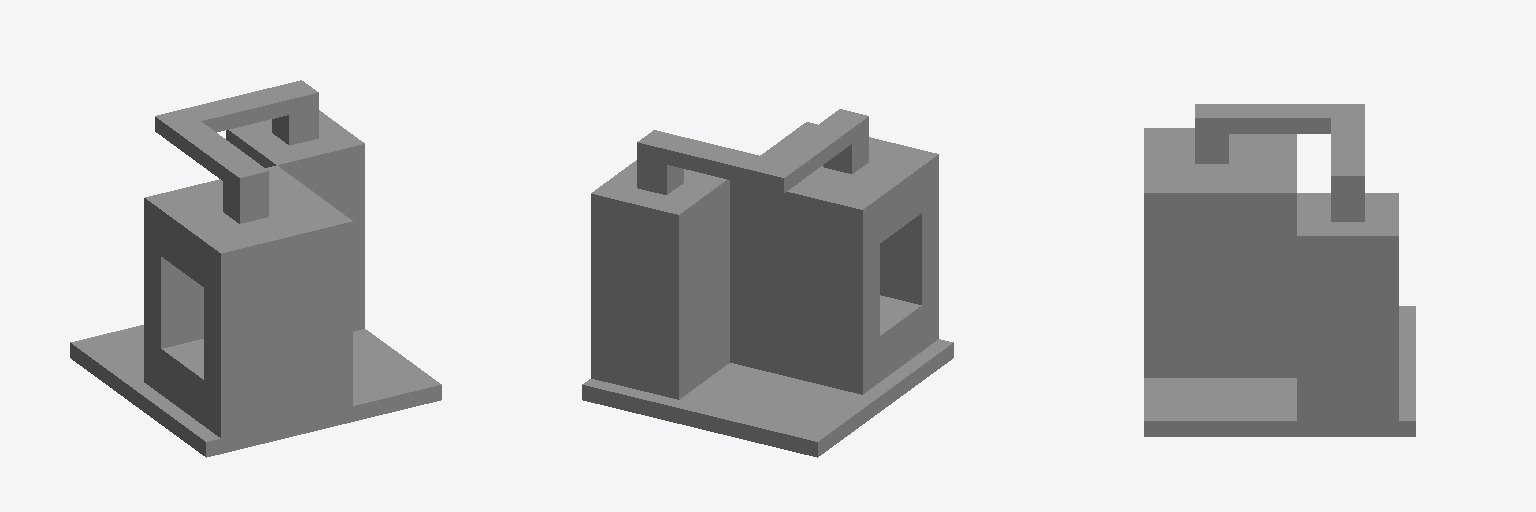
File: propfurnace.obj
3 views of the same model, side by side, from view 1: azimuth 30°, elevation 25°; view 2: azimuth 150°, elevation 25°; view 3: azimuth 270°, elevation 25° (orthographic).
Parts seen in each view (by area): view 1: Cube; view 2: Cube; view 3: Cube.
Boxes of the visible parts, <box> form: Cube: <box>70,80,441,457</box>; Cube: <box>582,109,953,457</box>; Cube: <box>1144,104,1415,436</box>.
Bounding box in the file's own units: 1 × 1 × 1.